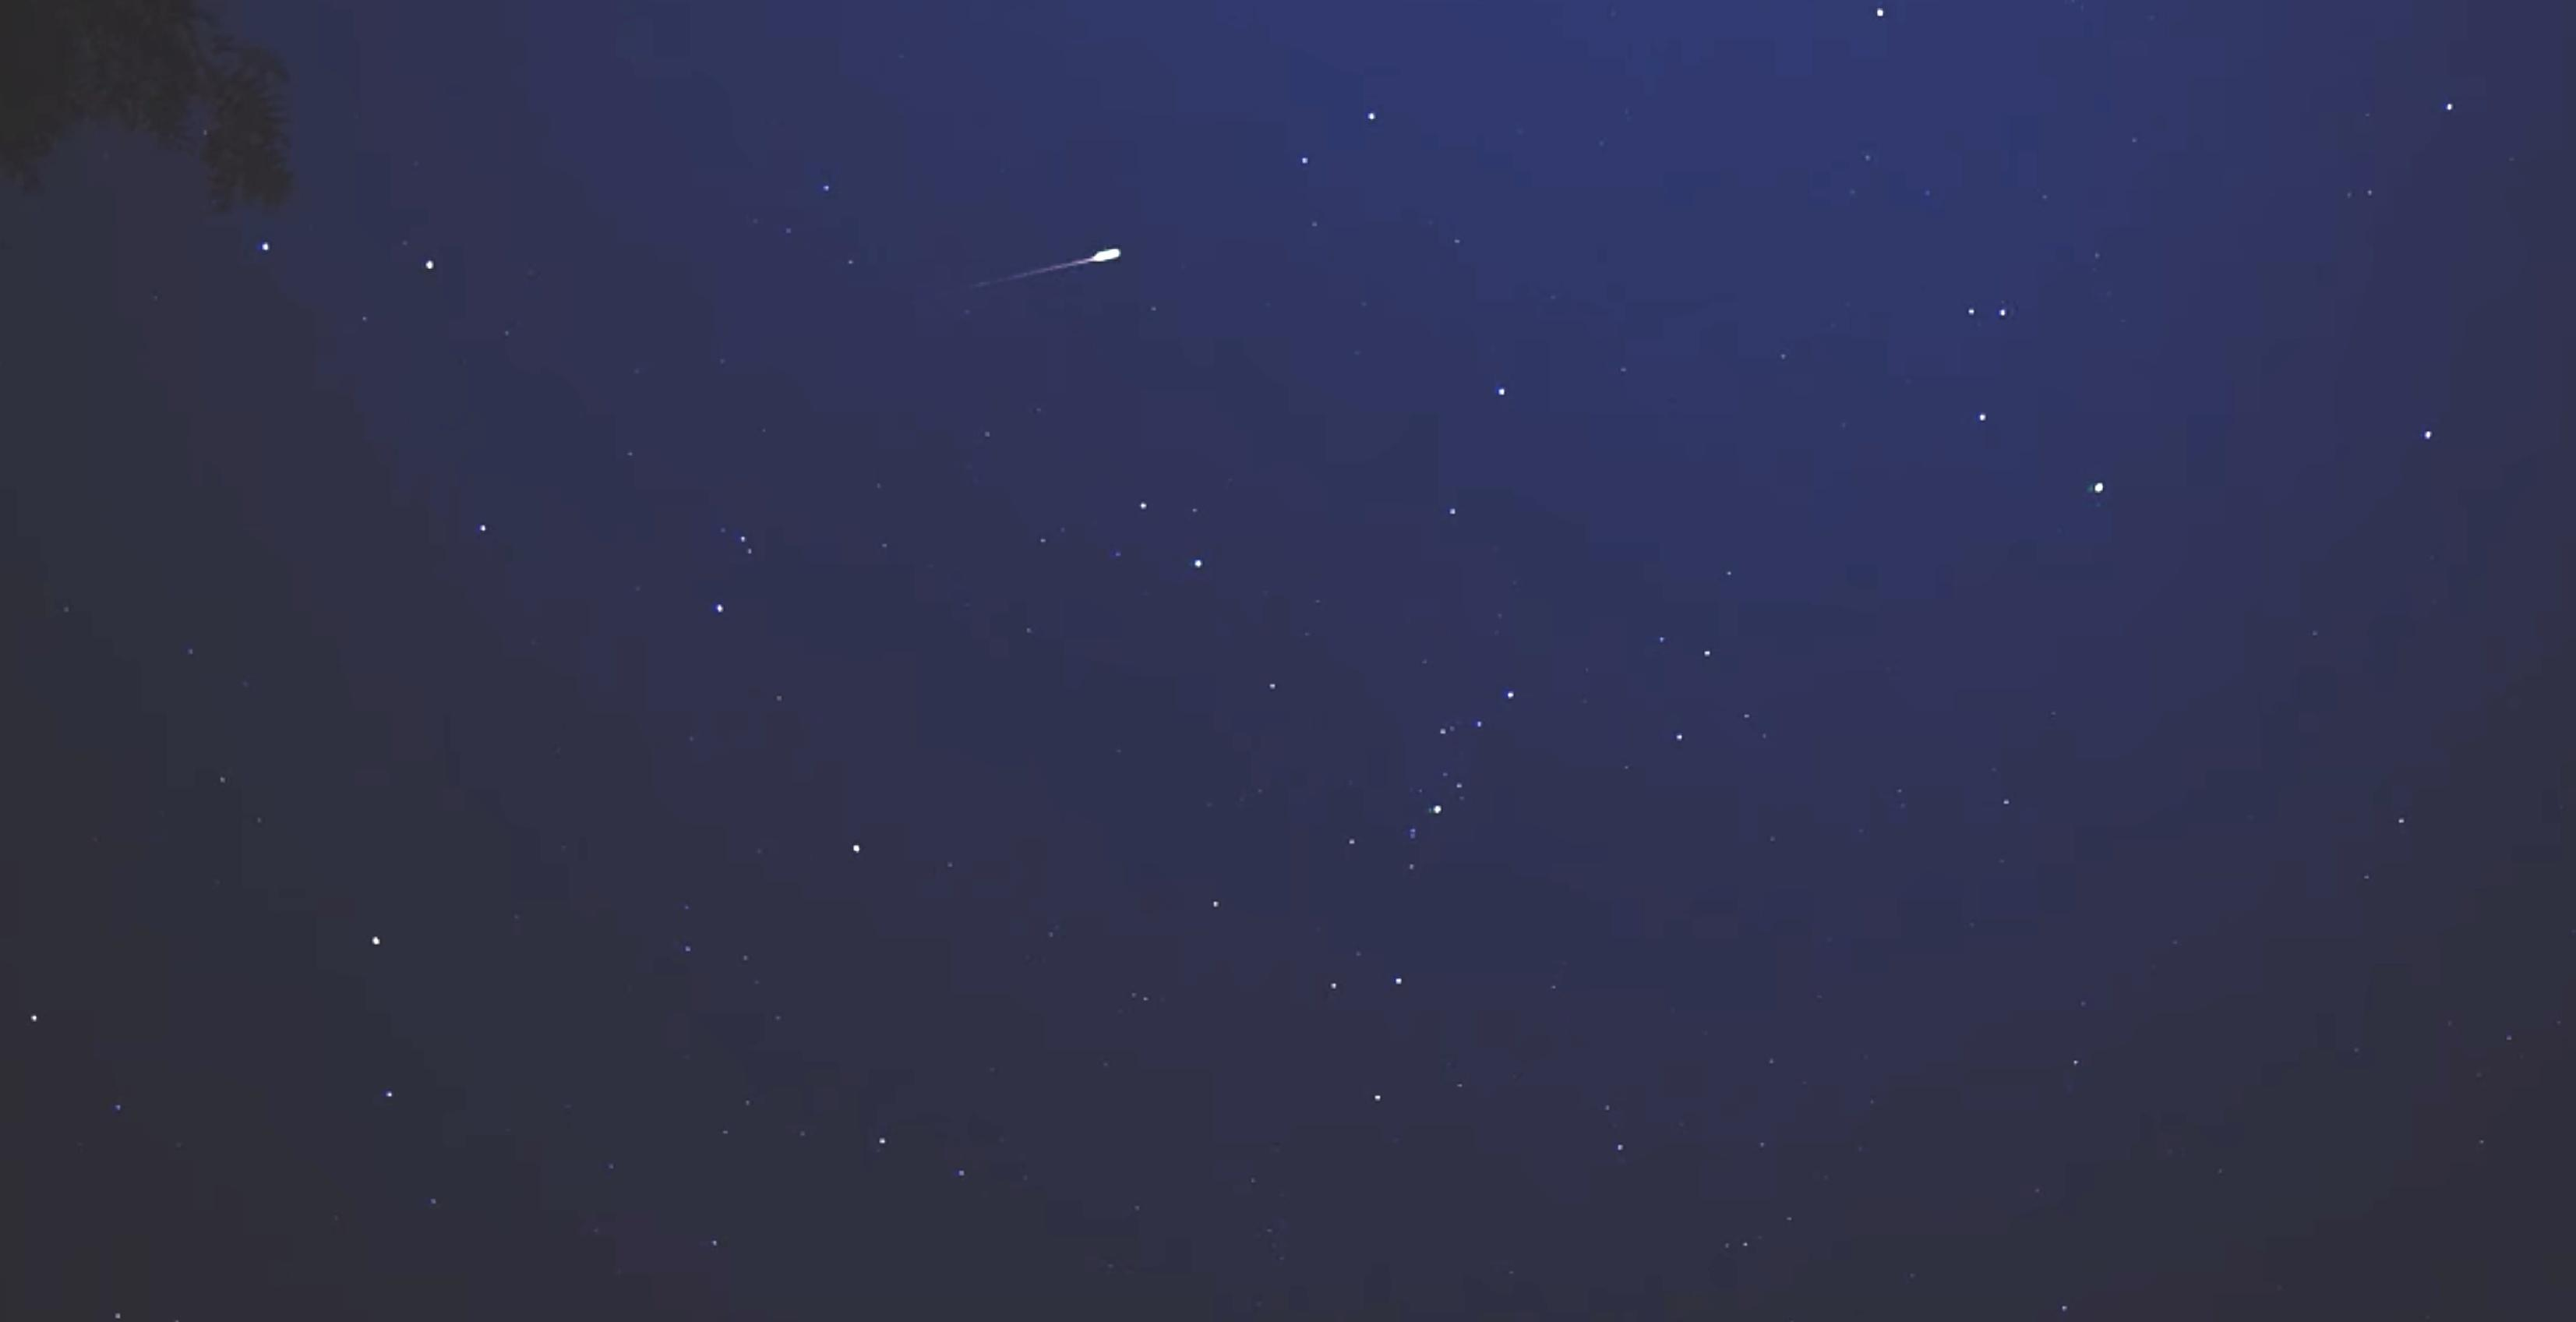meteorite: (896, 234, 1189, 302)
